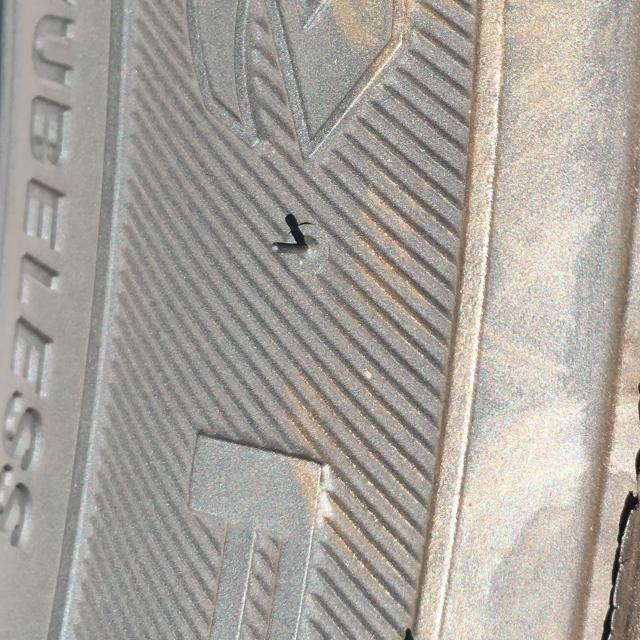Cracks: (586, 440, 640, 640)
Non-defective: (0, 2, 563, 640)
